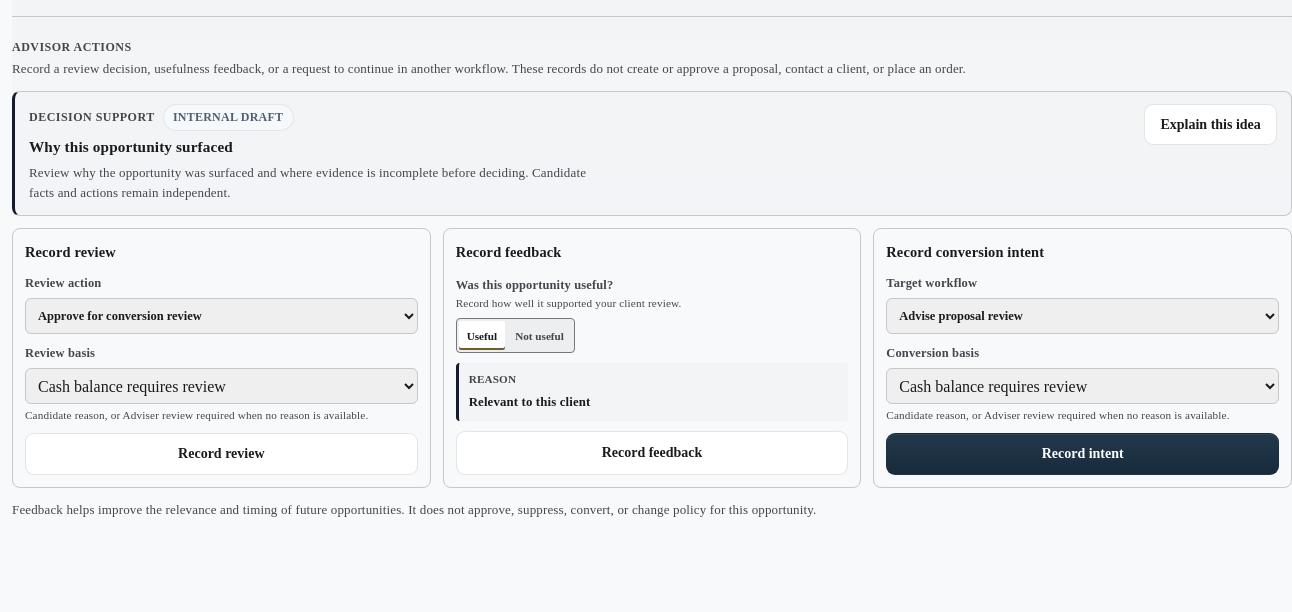
Test: IdeaCandidateActionPanel › abandons a failed retry only after the adviser changes the feedback
Click the button "Record feedback" at [652, 453], box [456,431,848,475]
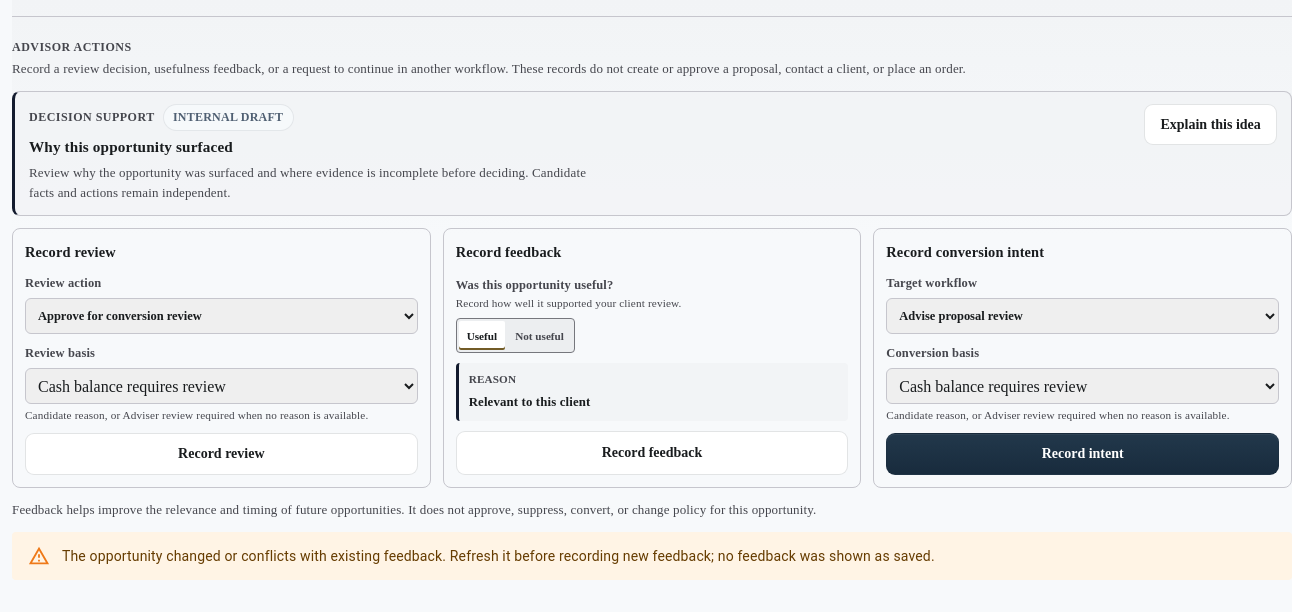
expect the message with test id "idea-action-error" is shown: met, box [12,532,1291,580]
Click the radio button labelled "Not useful" at [540, 336], box [507,321,572,350]
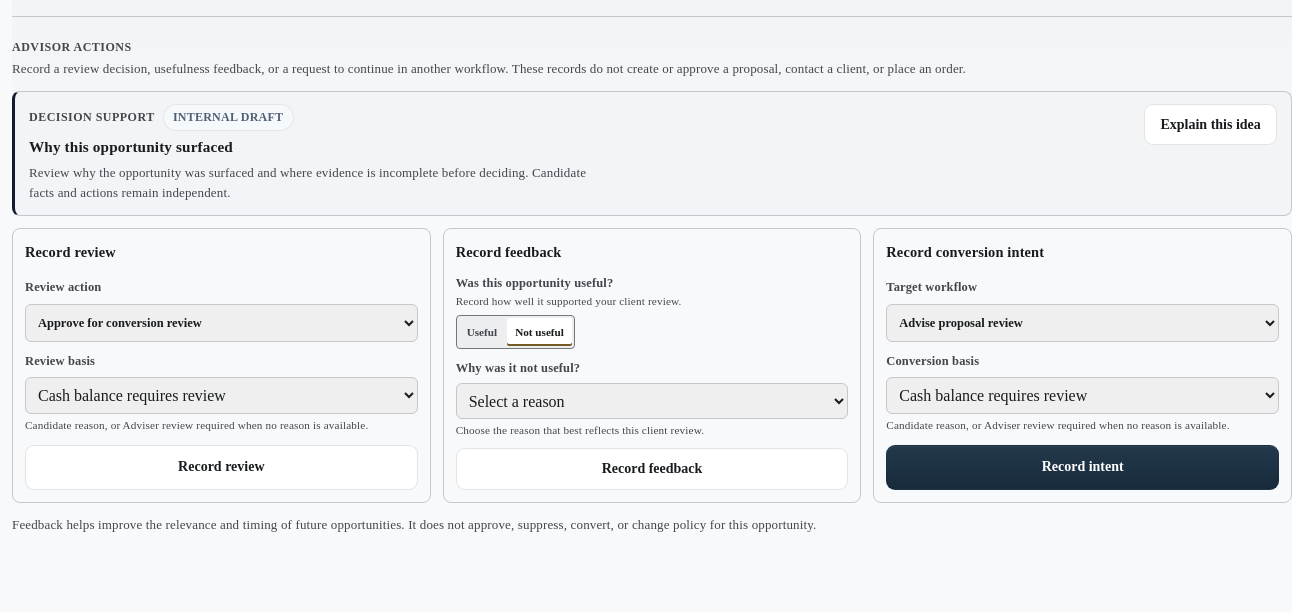
Select "Timing is not appropriate" in the dropdown labelled "Why was it not useful?" at [652, 401], box [456,383,848,419]
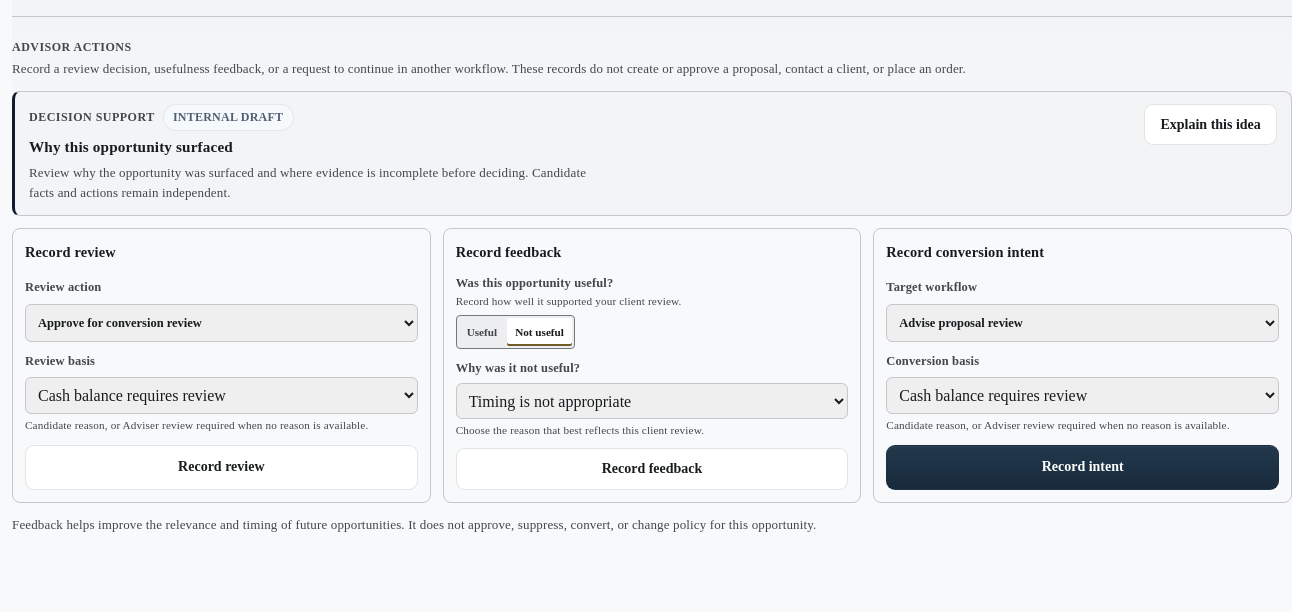
Click the button "Record feedback" at [652, 469], box [456,448,848,490]
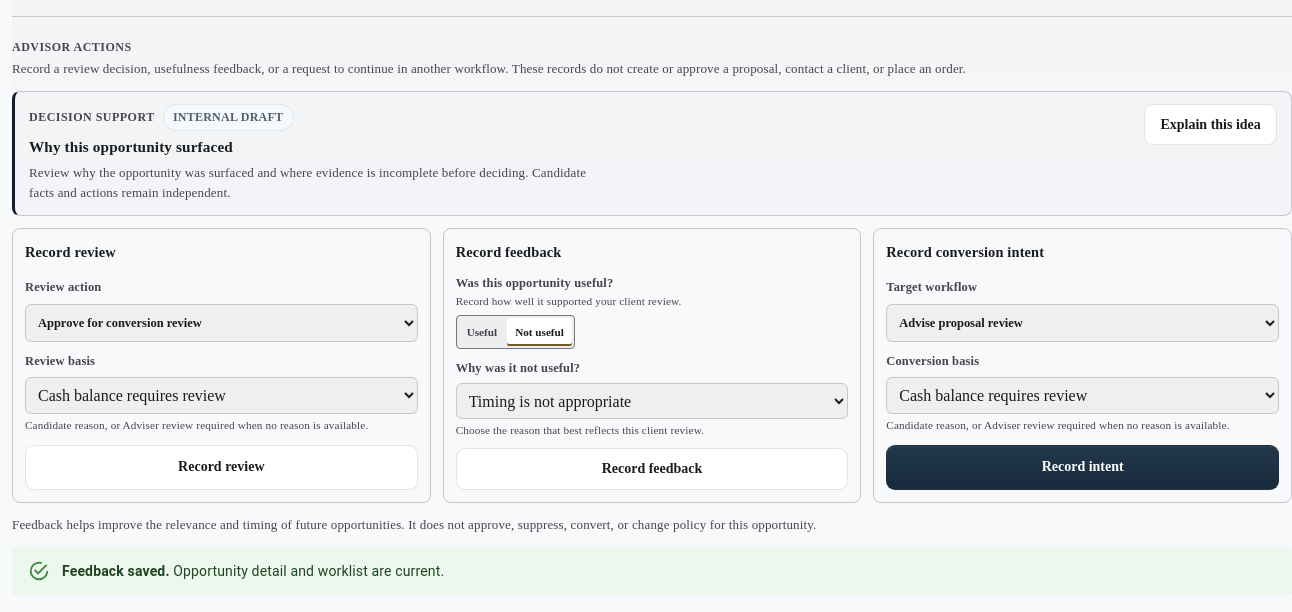
expect the message "Feedback saved. Opportunity detail and worklist are current." is shown: met, box [12,547,1291,595]
